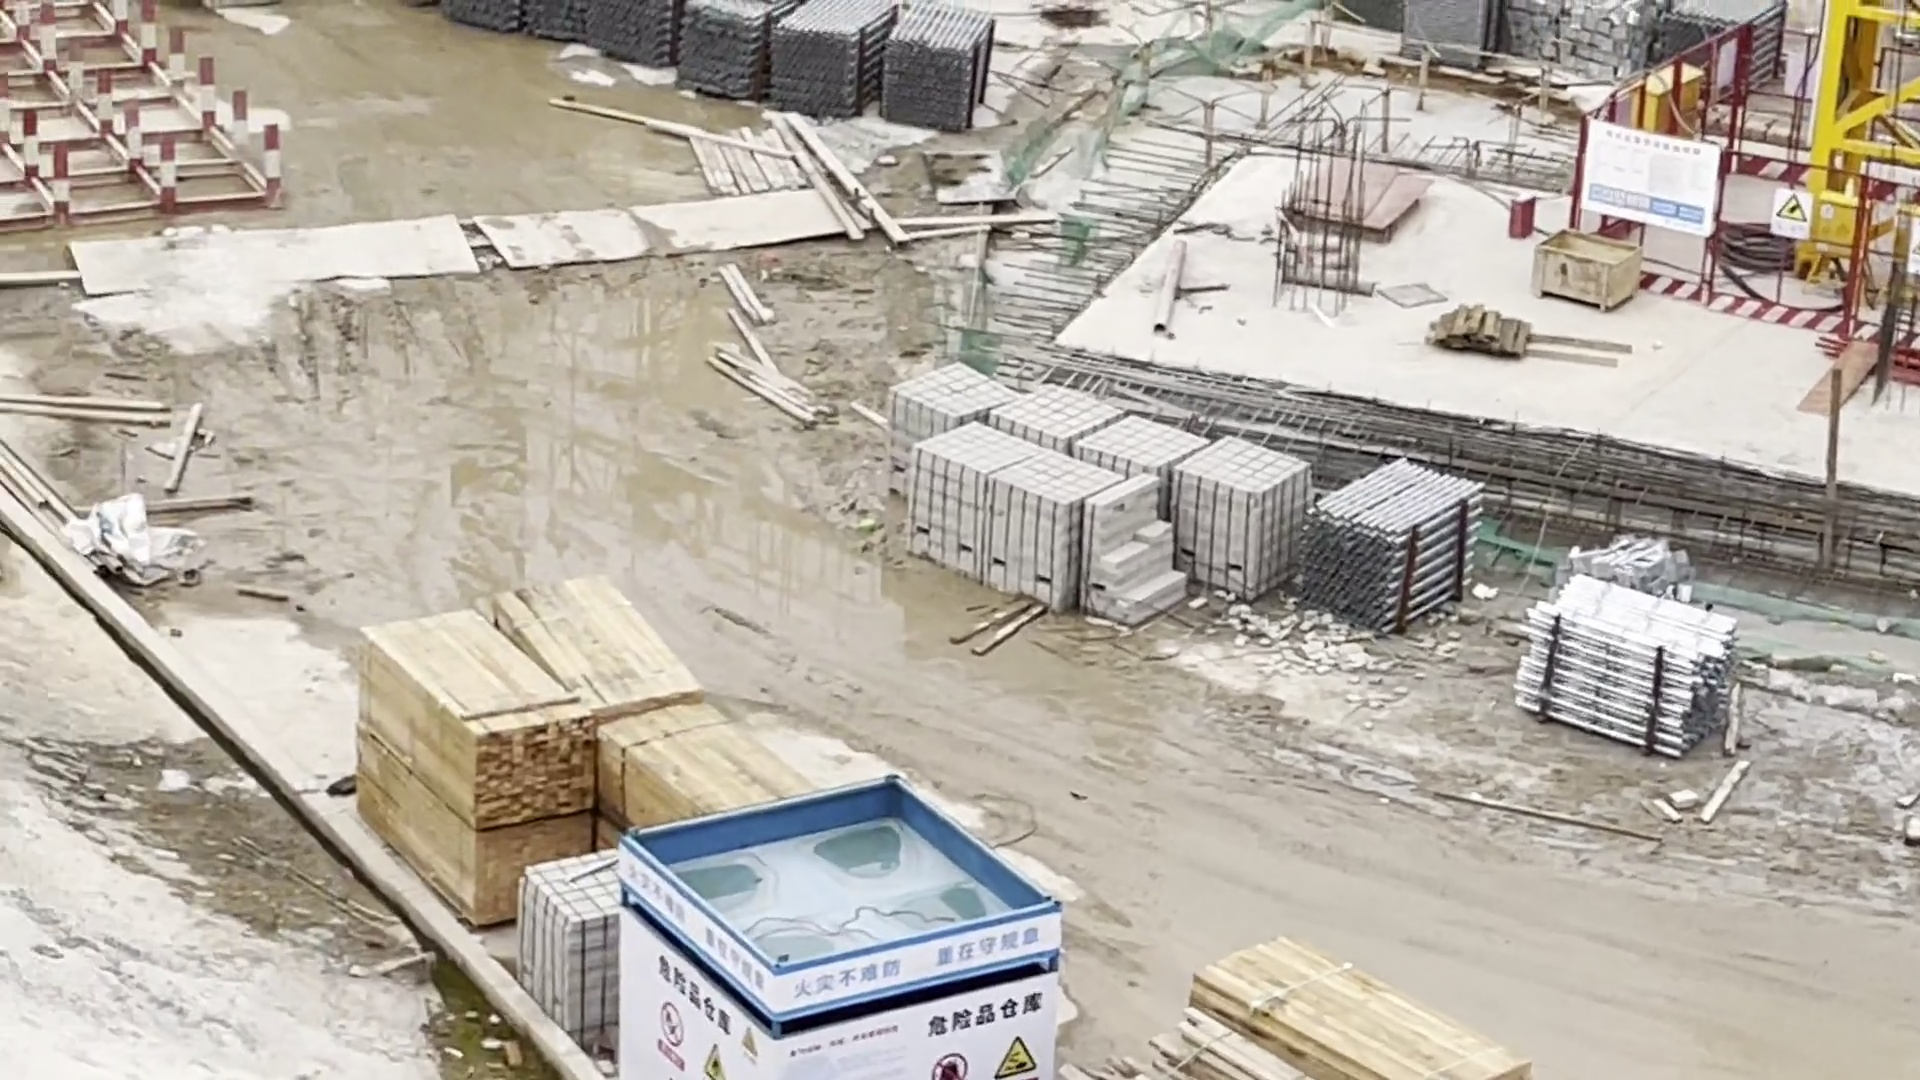brick: (880, 349, 1311, 642), (498, 837, 644, 1058), (1499, 1, 1654, 84)
ebox: (1610, 50, 1712, 141), (1795, 179, 1869, 273)
fence: (1567, 8, 1920, 372)
hopper: (1531, 216, 1656, 318)
scaffold: (435, 5, 1004, 146), (1505, 572, 1767, 773), (1304, 444, 1491, 641), (1656, 5, 1799, 88)
slogan: (767, 905, 1083, 1080), (618, 853, 787, 1080), (1576, 120, 1725, 245), (1763, 181, 1815, 249)
wood: (331, 568, 823, 924), (1076, 916, 1559, 1080)
